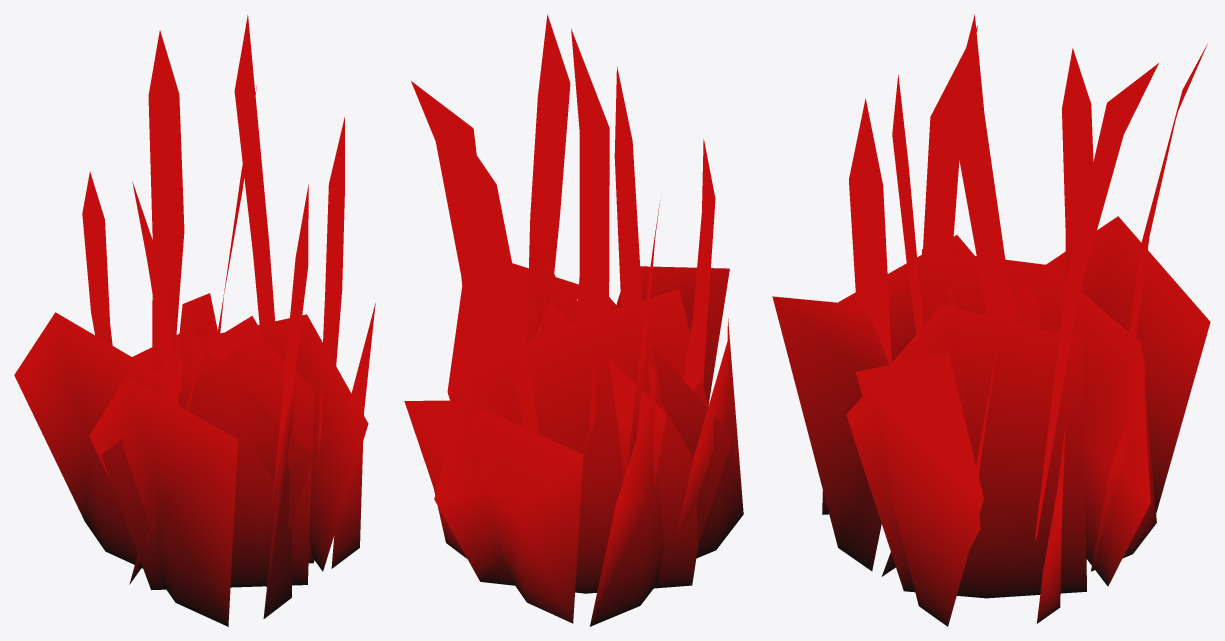
The model's file is Reeds3.fbx.
3 renders of one model, left to right at view 1: azimuth 30°, elevation 25°; view 2: azimuth 150°, elevation 25°; view 3: azimuth 270°, elevation 25°, orthographic. The views are drawn at different scales.
Parts seen in each view (by area): view 1: Reeds3; view 2: Reeds3; view 3: Reeds3.
Part boxes in pixels (box(x1,y1,x2,y2)): Reeds3: box(14, 15, 375, 626); Reeds3: box(404, 14, 743, 626); Reeds3: box(772, 14, 1210, 626).
Size of the model in its own units: 68.97 by 118 by 82.3.
